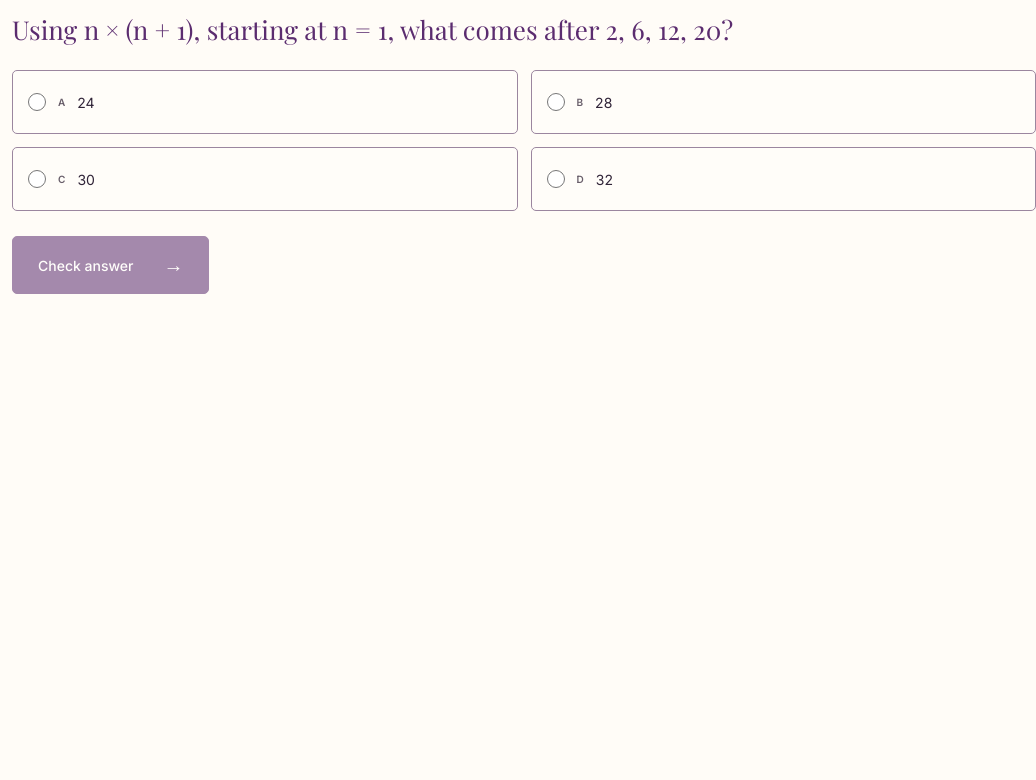
Test: quiz interaction › reveals nothing on selection, reports correct and retries
Expected: the button "Check answer →" is disabled, [12,236,210,294]
Step 1. Click the radio button labelled "C 30" → click(37, 179), box [28,170,46,188]
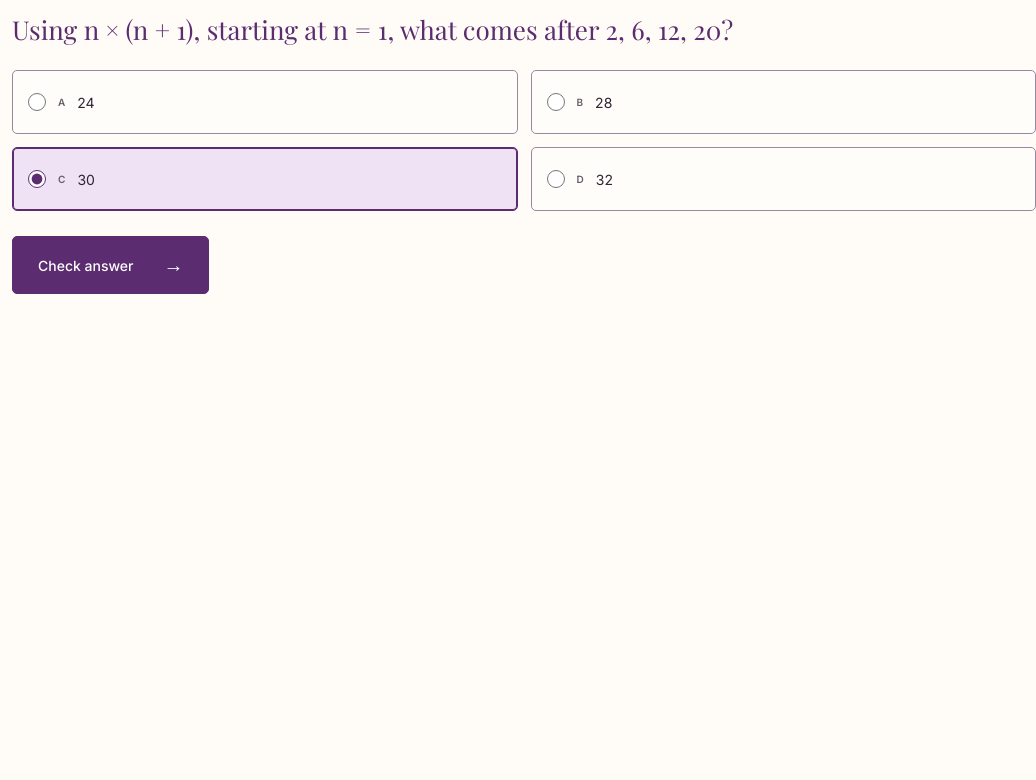
Expected: the text "Correct answer:" is not shown
Step 2. Click the button "Check answer →" → click(111, 265), box [12,236,210,294]
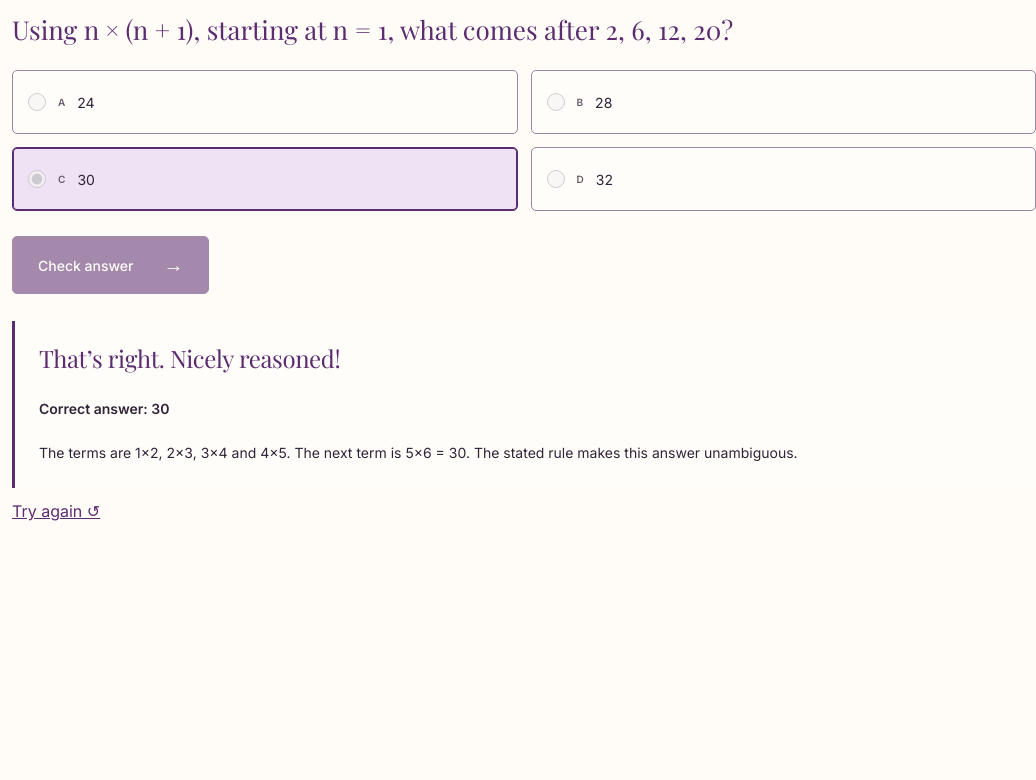
Expected: the heading "That’s right. Nicely reasoned!" is shown, [39,342,340,374]
Expected: the text "The terms are 1×2, 2×3, 3×4 and 4×5. The next term is 5×6 = 30. The stated rule makes this answer unambiguous." is shown, [39,444,798,461]
Expected: the button "Check answer →" is disabled, [12,236,210,294]
Step 3. Click the button "Try again ↺" → click(56, 511), box [12,488,100,535]
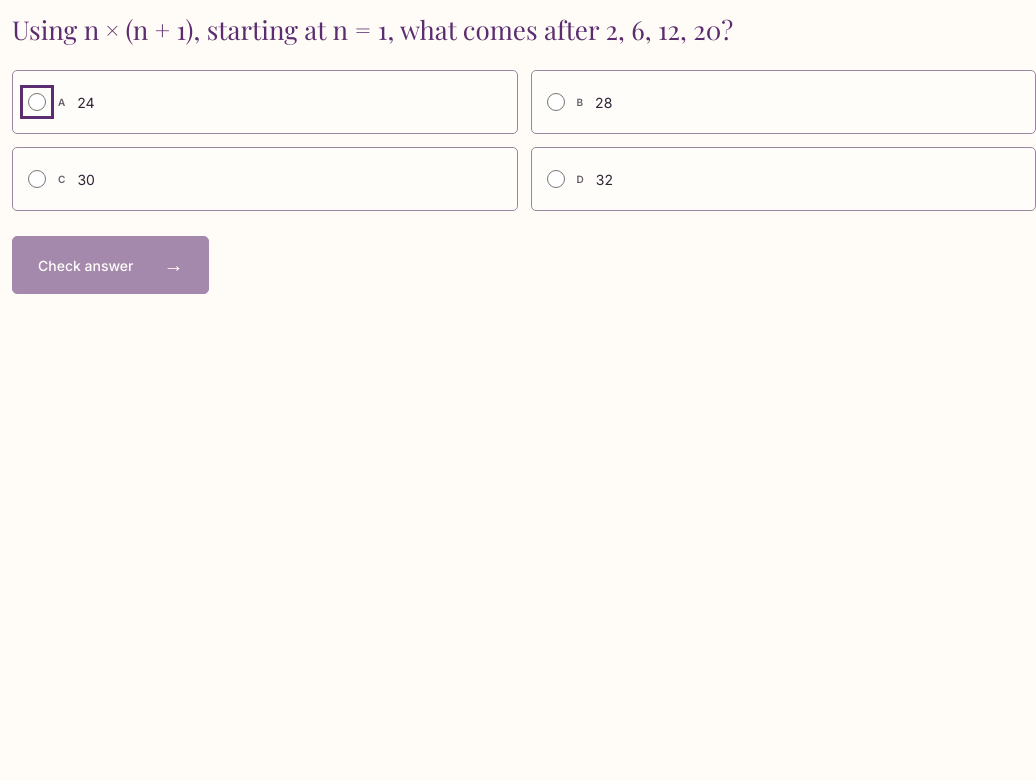
Expected: the button "Check answer →" is disabled, [12,236,210,294]
Expected: the text "The terms are 1×2, 2×3, 3×4 and 4×5. The next term is 5×6 = 30. The stated rule makes this answer unambiguous." is gone
